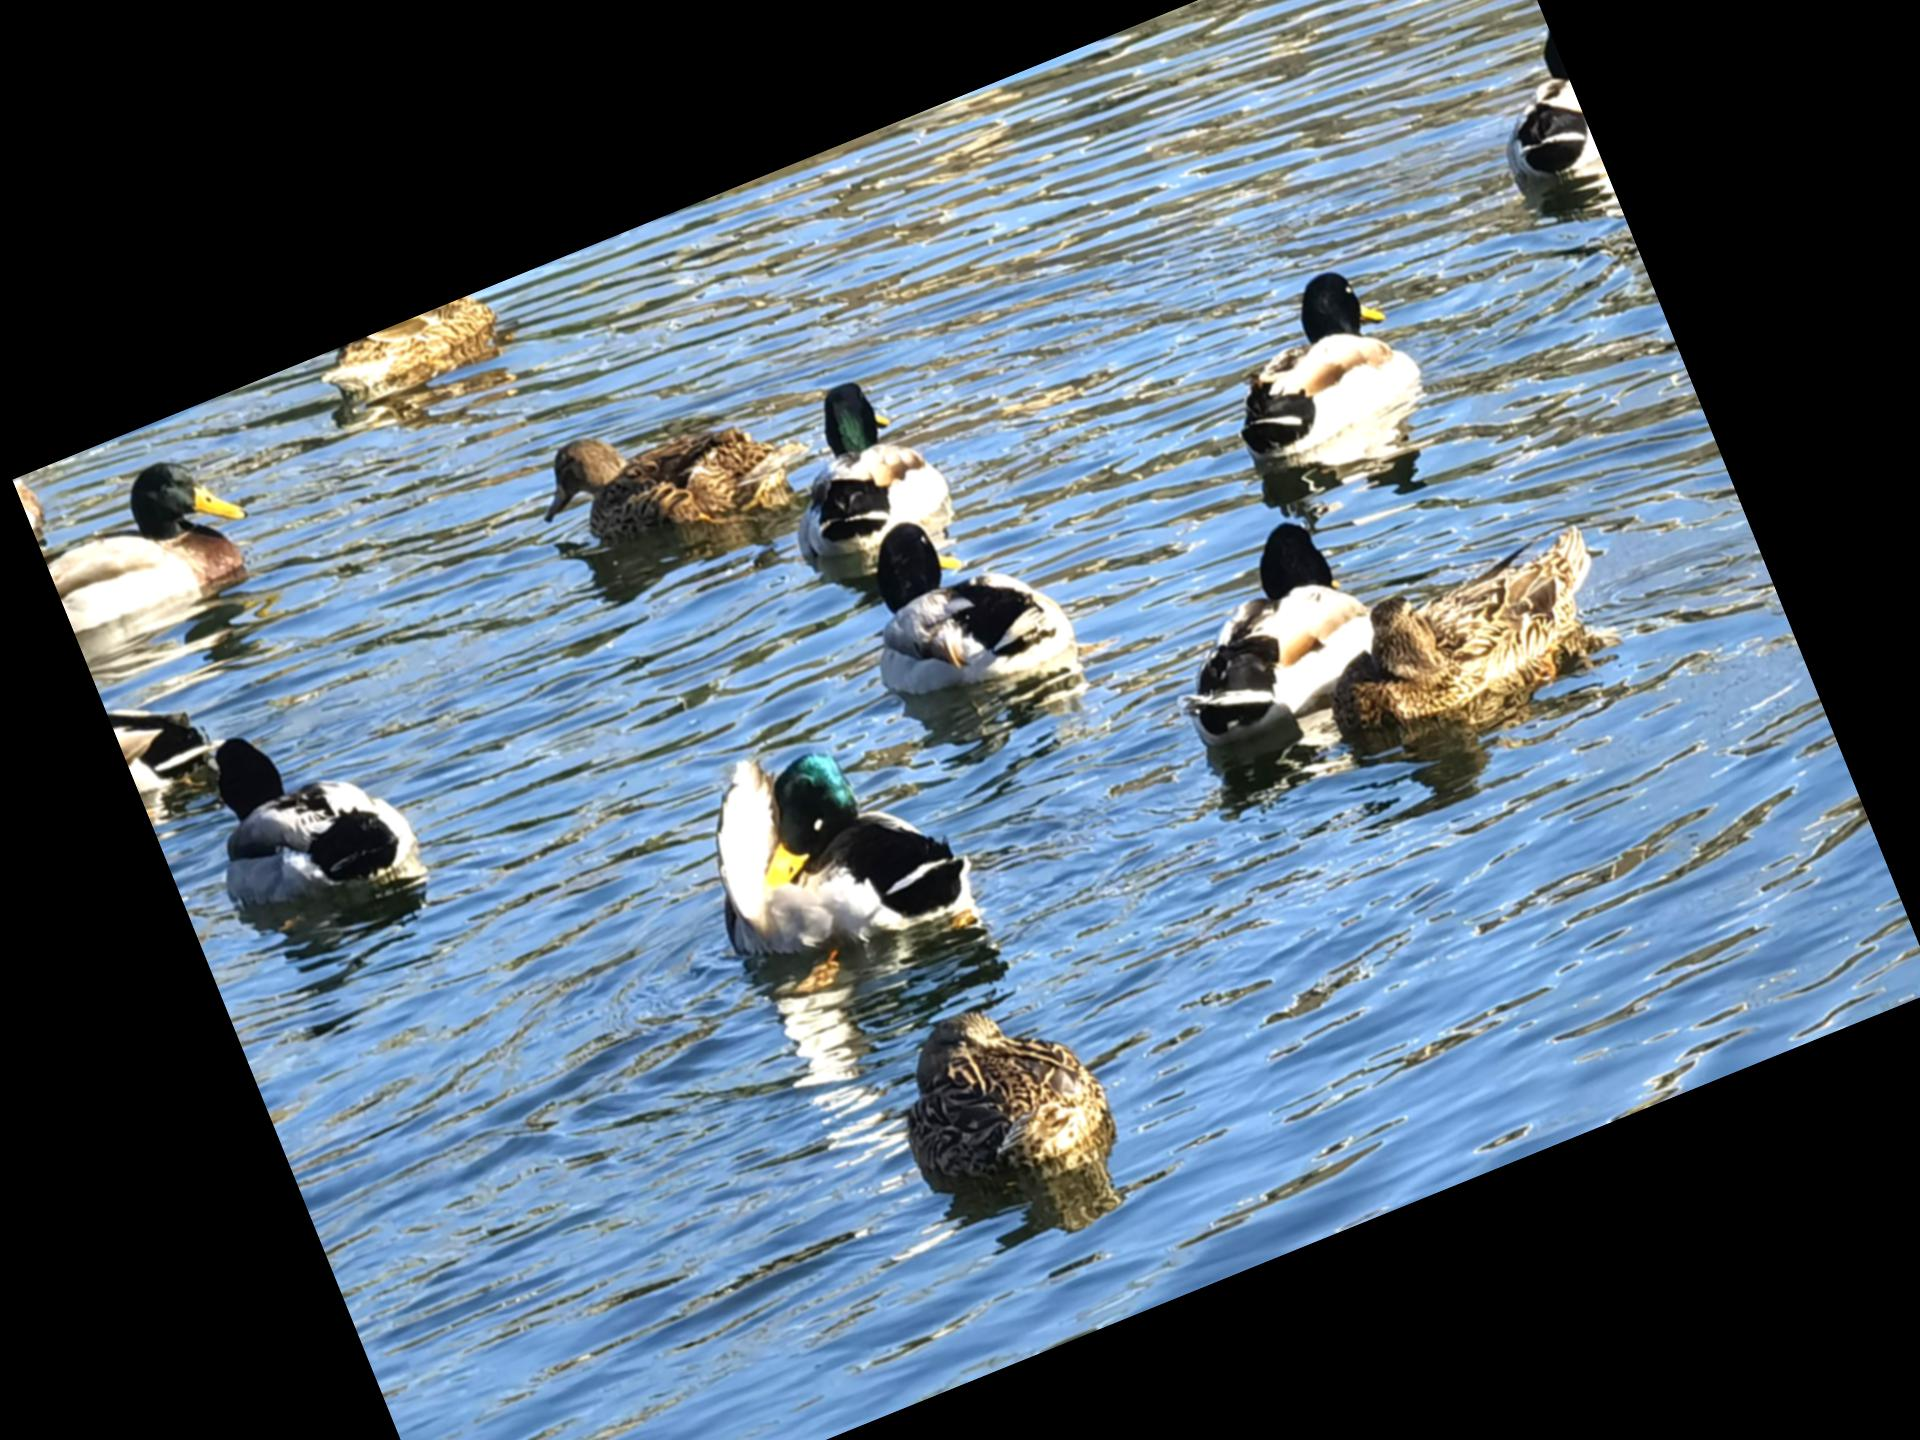duck: (661, 675, 1007, 1019), (1284, 507, 1645, 773), (841, 961, 1155, 1234), (172, 664, 458, 961), (1176, 228, 1457, 520), (822, 464, 1108, 750), (1126, 493, 1421, 768), (732, 339, 1004, 626), (516, 349, 816, 601), (23, 421, 298, 656), (1453, 17, 1624, 250), (314, 278, 535, 428)
